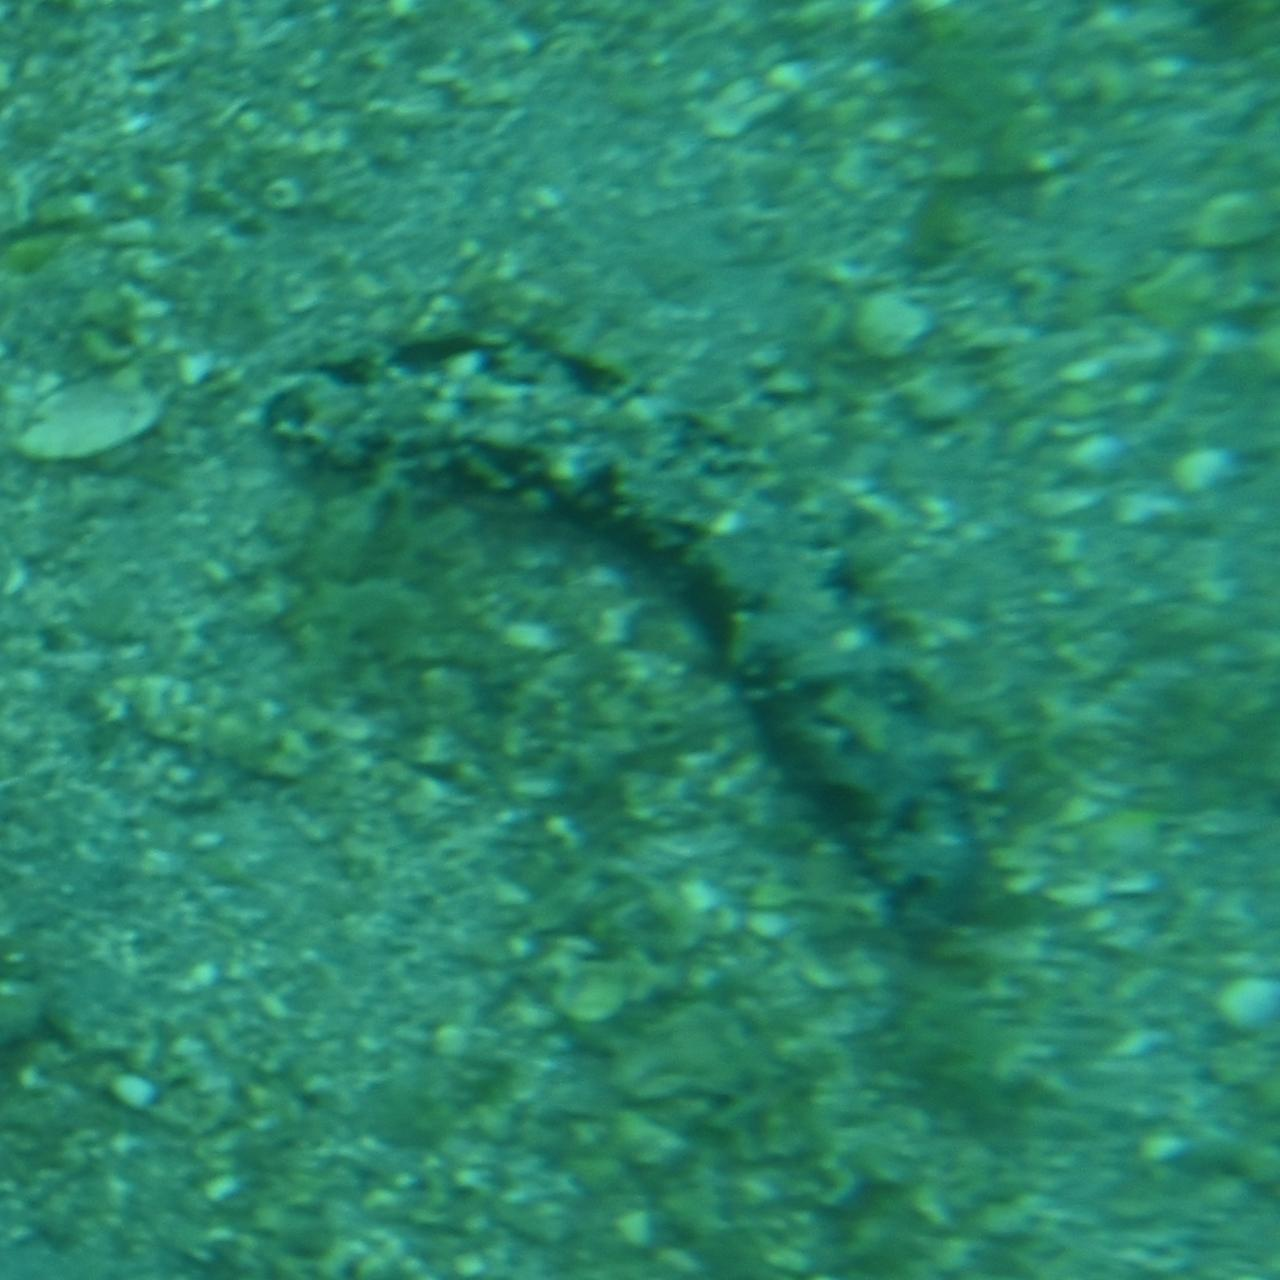Holothuria tubulosa: (244, 315, 1036, 965)
